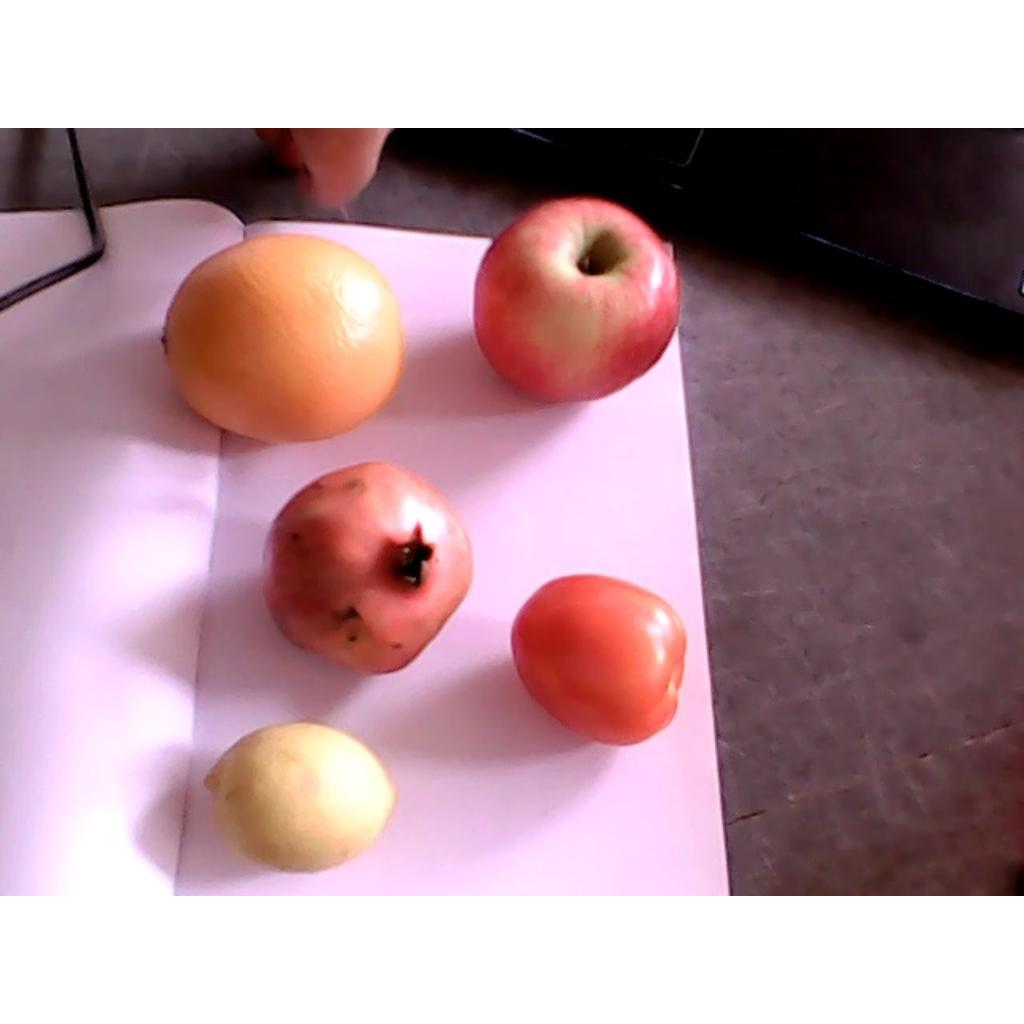apple: (474, 198, 681, 402)
lemon: (206, 722, 397, 874)
orange: (163, 232, 405, 443)
pomegranate: (262, 460, 474, 673)
tomato: (512, 574, 686, 746)
